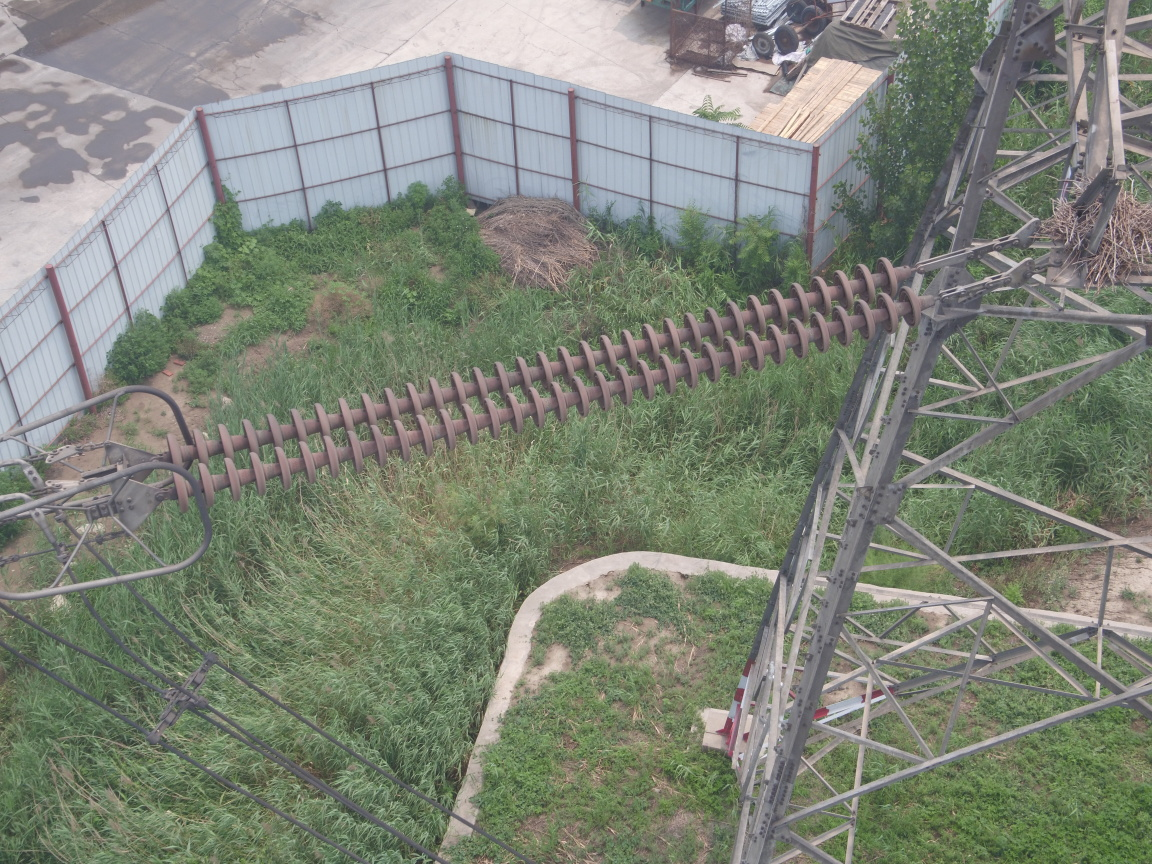insulator: (136, 252, 977, 519)
